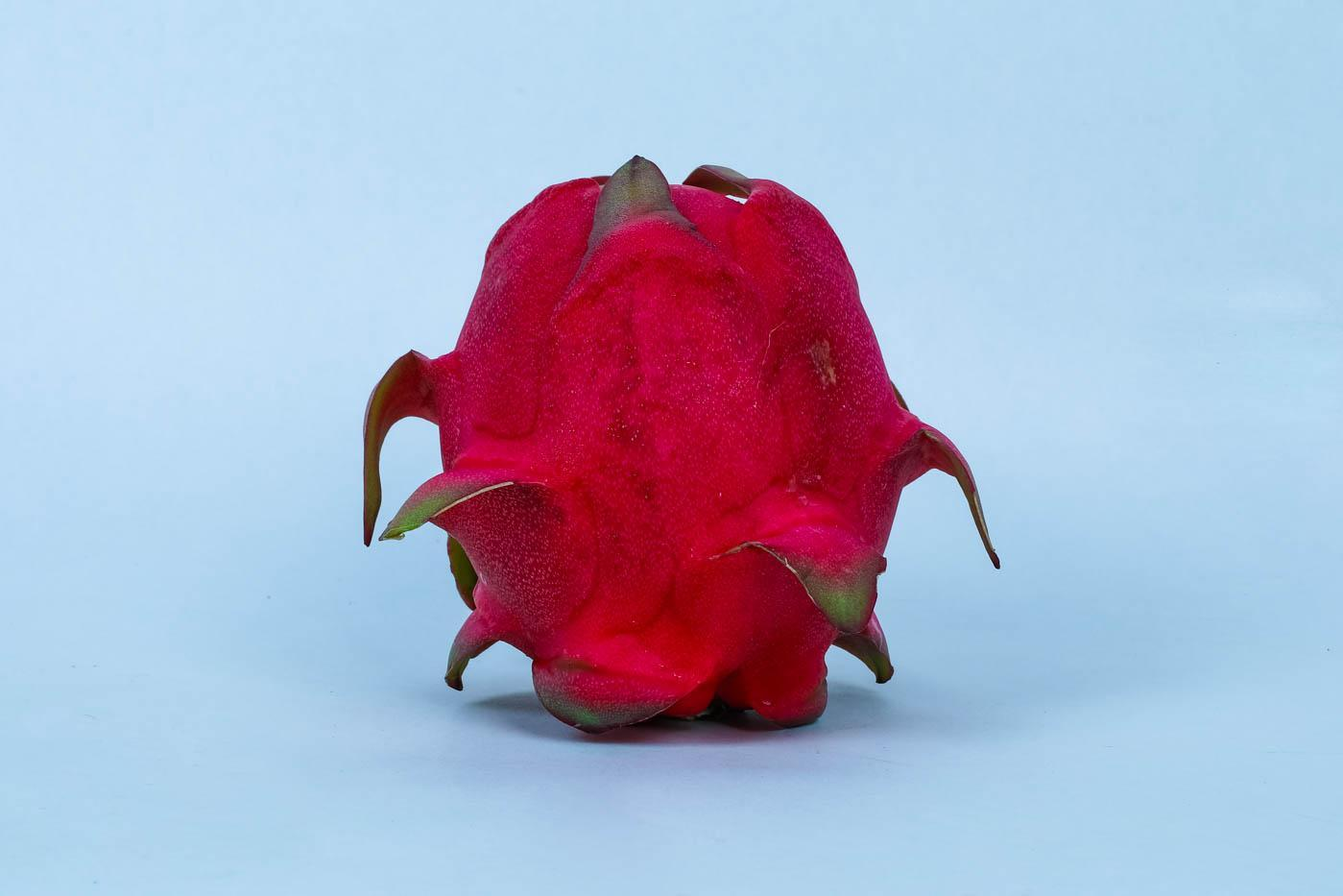dragon-fruit: (433, 172, 909, 726)
